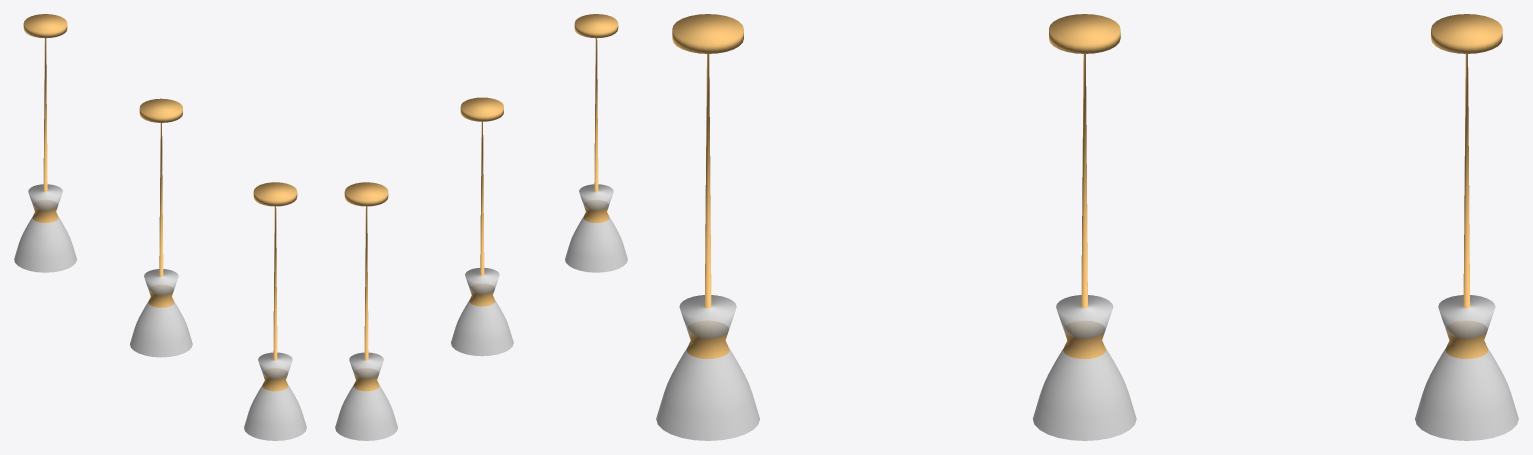
File: 2345_kitchen_Light_HeathWhite_Brass.gltf
3 views of the same model, side by side, from view 1: azimuth 30°, elevation 25°; view 2: azimuth 150°, elevation 25°; view 3: azimuth 270°, elevation 25° (orthographic). The views are drawn at different scales.
Parts seen in each view (by area): view 1: HeathWhite/Brass; view 2: HeathWhite/Brass; view 3: HeathWhite/Brass.
Part boxes in pixels (box(x1,y1,x2,y2)): HeathWhite/Brass: box(14, 14, 306, 440); HeathWhite/Brass: box(335, 14, 627, 440); HeathWhite/Brass: box(656, 14, 1518, 440).
Size of the model in its own units: 0.275 by 1.14 by 2.28.
